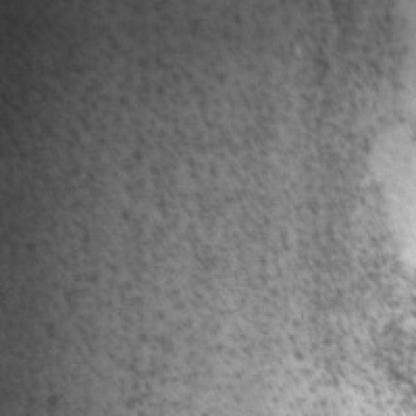pitted_surface: (18, 10, 410, 414)
